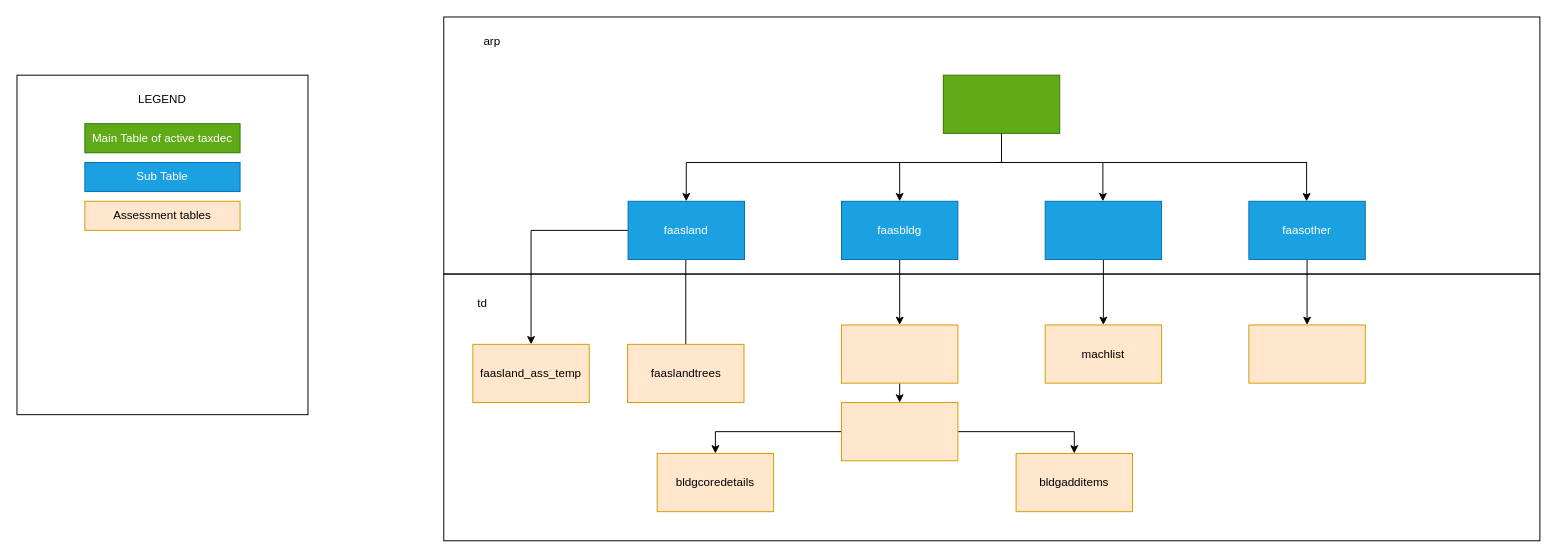
The diagram is 1557 pixels wide and 558 high, and some of its shapes have lost their labels. Each missing label, with the centre of its shape:
bldghouse: point (899, 353)
bldghousefloor: point (899, 431)
faas: point (1001, 103)
faasmachineries: point (1103, 229)
otherrec: point (1306, 353)
